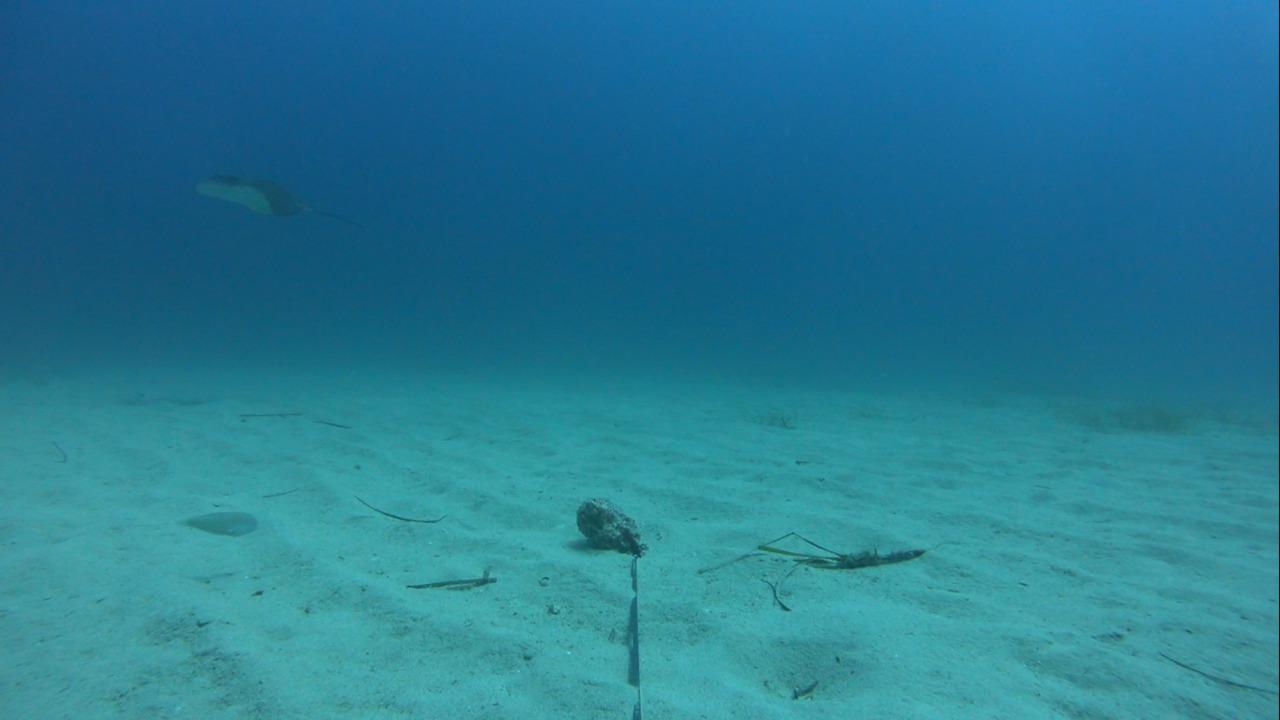myliobatis: (179, 168, 348, 236)
raor: (177, 506, 262, 541)
